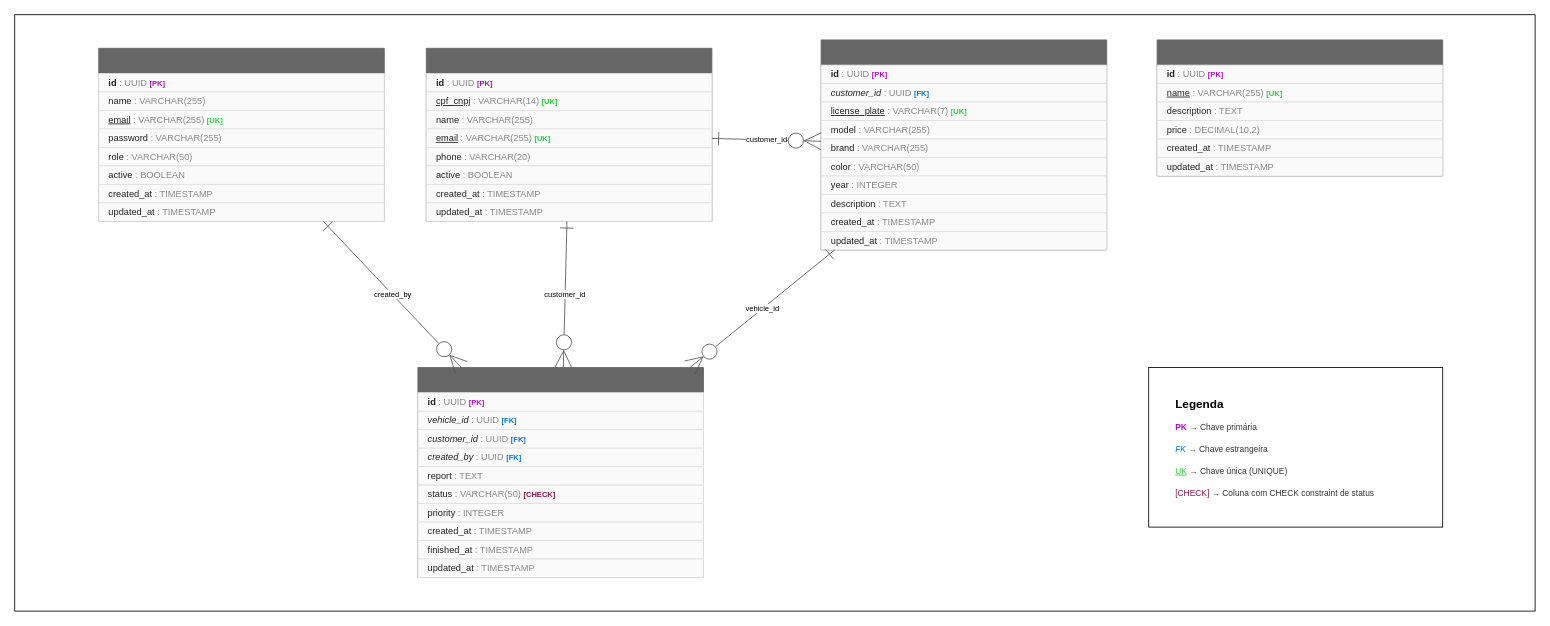
This 1550x626 diagram has some shape labels left out. Each missing label, with the box of its shape:
customers: (425, 47, 712, 221)
service_orders: (417, 367, 704, 578)
services_catalog: (1156, 39, 1443, 176)
users: (98, 47, 384, 221)
vehicles: (820, 39, 1107, 250)
